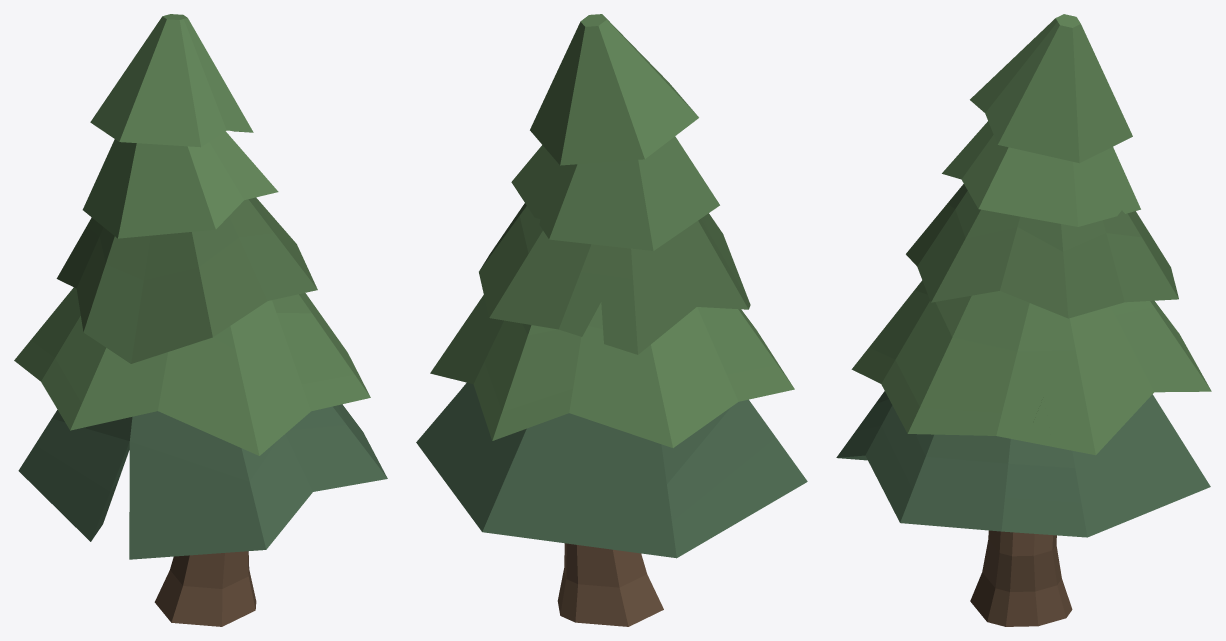
File: tree8.fbx
3 views of the same model, side by side, from view 1: azimuth 30°, elevation 25°; view 2: azimuth 150°, elevation 25°; view 3: azimuth 270°, elevation 25° (orthographic). The views are drawn at different scales.
Parts seen in each view (by area): view 1: Cylinder.003; view 2: Cylinder.003; view 3: Cylinder.003.
Boxes of the visible parts, x1,y1,x2,y2 form: Cylinder.003: (14, 14, 387, 626); Cylinder.003: (416, 14, 807, 626); Cylinder.003: (836, 14, 1211, 626).
Bounding box in the file's own units: 2.72 × 4.86 × 2.84.
